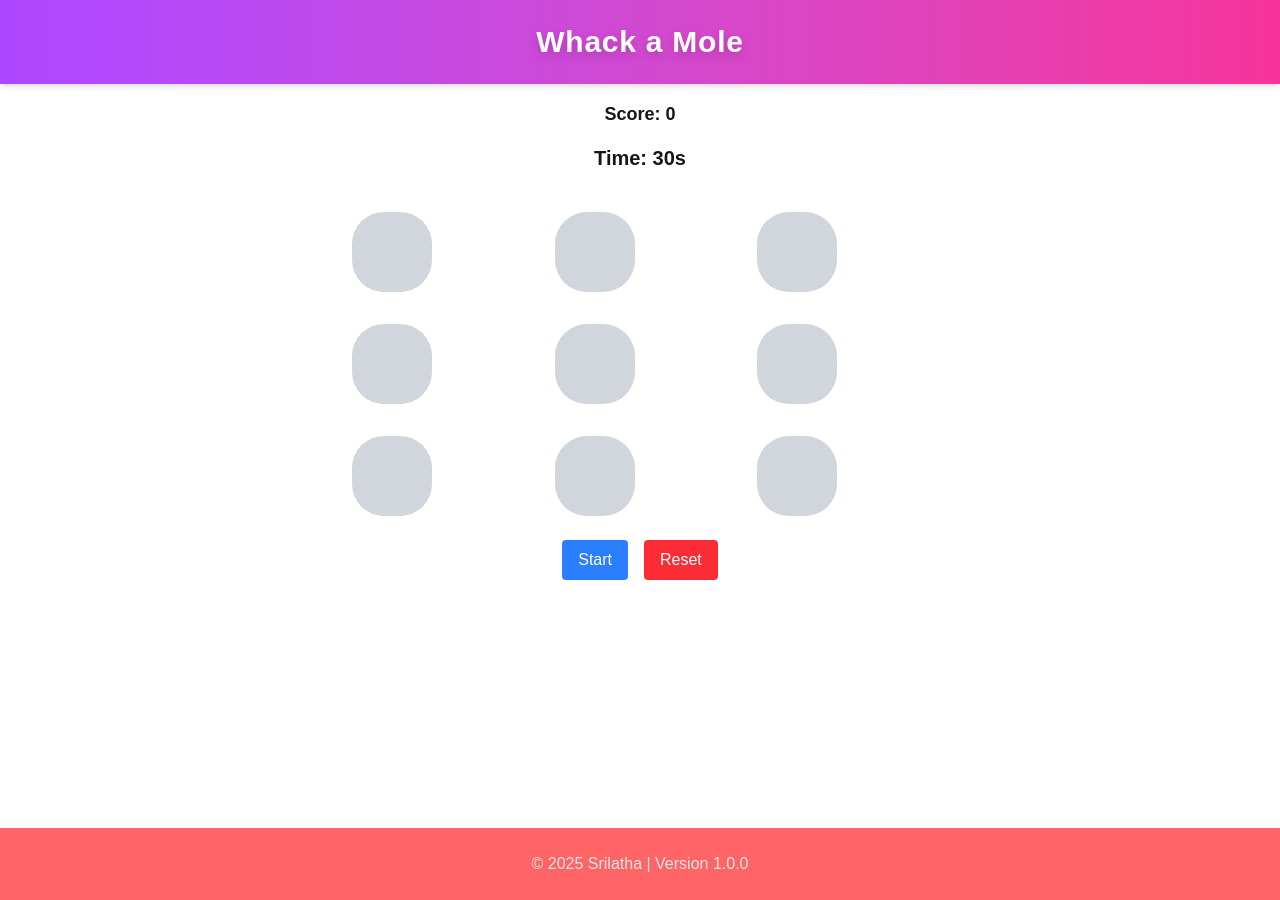
Test: Home Page - Whack-a-Mole › Integration Tests › decreases the timer every second while the game is running
Click the button with test id "start-btn".
click(595, 560)  # box [562,540,628,580]
Wait 2000 ms
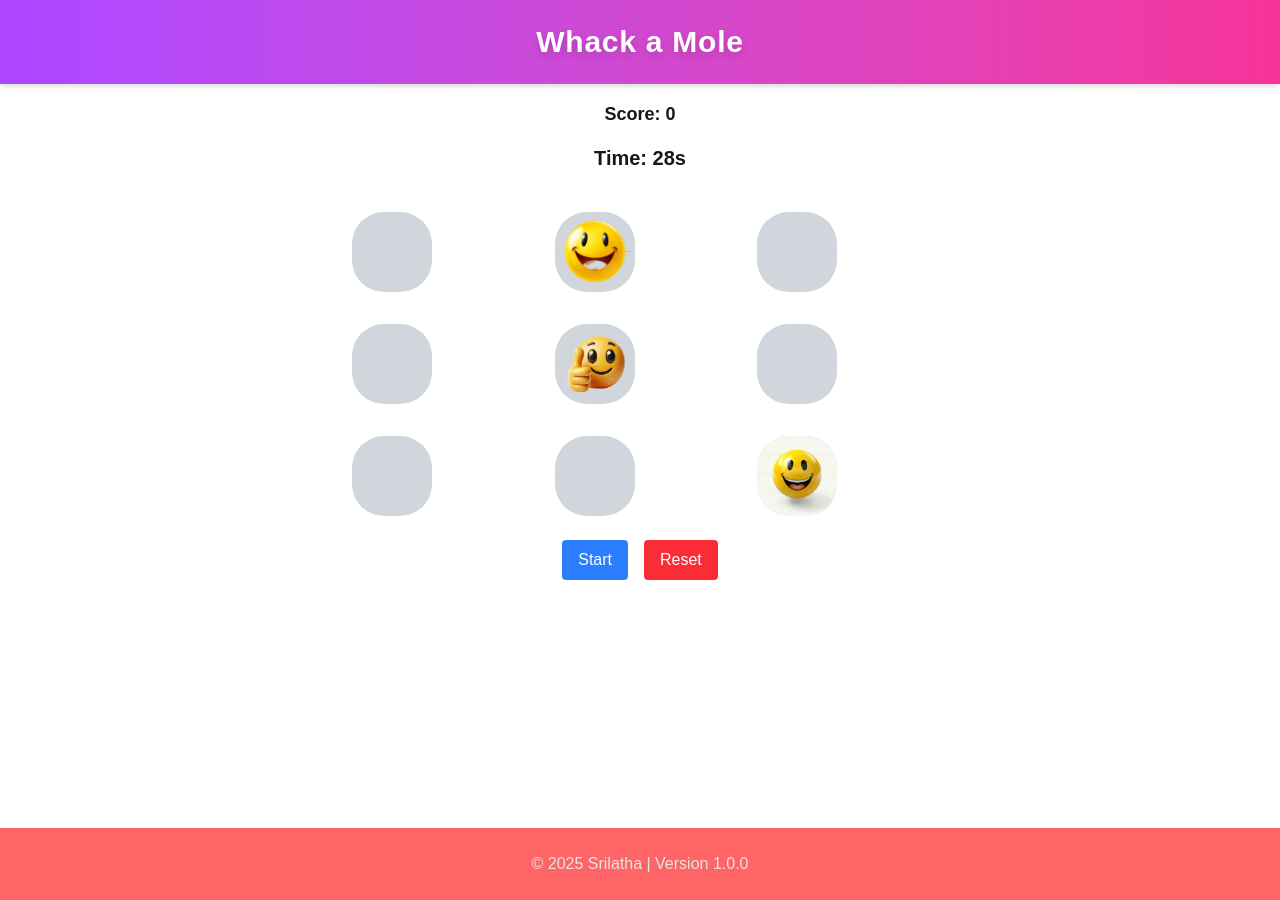
Check: the text with test id "timer" reads "Time: 28s", box [594,147,686,169]
